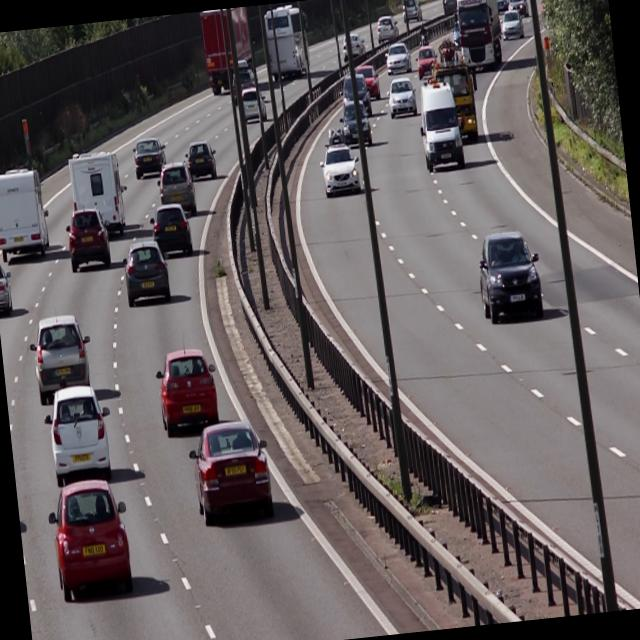Vehicle: (45, 474, 136, 605), (188, 422, 274, 522), (40, 381, 116, 486), (472, 225, 546, 327), (26, 308, 96, 399), (67, 146, 131, 237), (0, 162, 53, 263), (430, 40, 480, 144), (198, 6, 258, 92), (417, 72, 466, 169), (264, 0, 313, 80), (452, 0, 505, 71), (120, 237, 172, 309), (316, 126, 364, 200), (64, 208, 114, 272), (149, 200, 194, 256), (154, 162, 198, 216), (183, 134, 219, 184), (339, 99, 374, 149), (131, 134, 169, 179), (342, 68, 372, 117), (384, 76, 418, 117), (356, 58, 382, 104), (240, 85, 270, 124), (383, 37, 412, 76), (0, 259, 18, 320), (499, 7, 526, 46), (415, 41, 439, 78)
